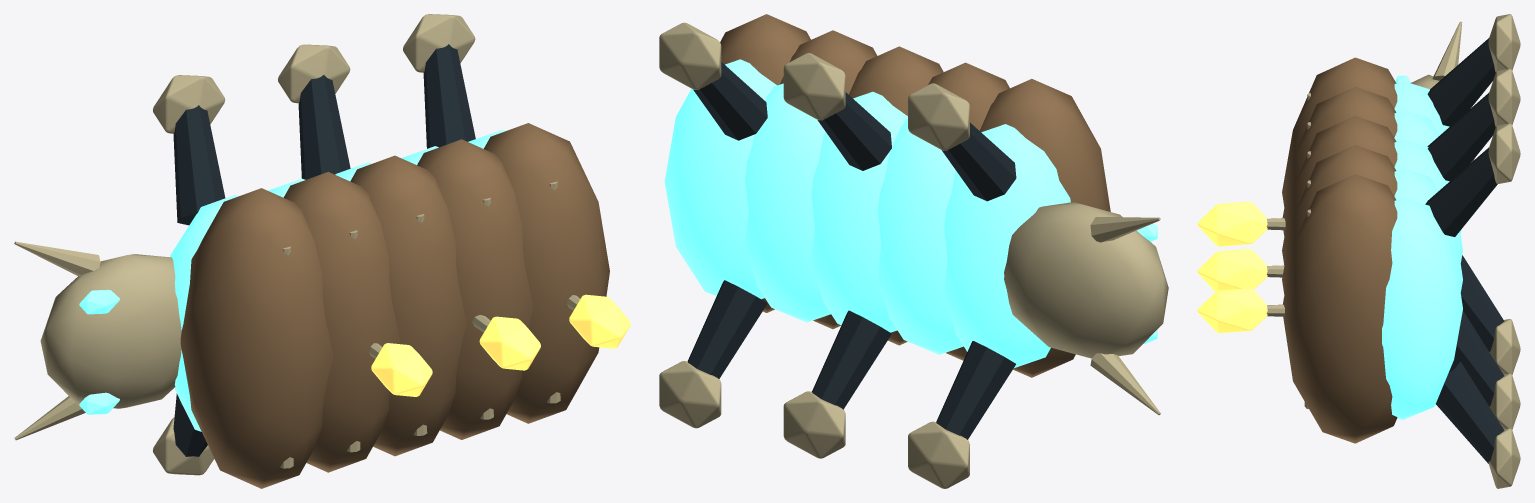
File: grazer.glb
3 renders of one model, left to right at view 1: azimuth 30°, elevation 25°; view 2: azimuth 150°, elevation 25°; view 3: azimuth 270°, elevation 25°, orthographic. The views are drawn at different scales.
Visible parts, largest first — view 1: GrazerPlate, GrazerPlate.004, GrazerPlate.001, GrazerPlate.002, GrazerPlate.003, GrazerHead, GrazerLeg.003, GrazerLeg.004, GrazerLeg.005, GrazerCore, GrazerFoot.003, GrazerFoot.004 (+10 smaller); view 2: GrazerHead, GrazerCore, GrazerCore.003, GrazerCore.004, GrazerCore.001, GrazerCore.002, GrazerPlate, GrazerLeg, GrazerLeg.001, GrazerLeg.002, GrazerPlate.004, GrazerPlate.002 (+13 smaller); view 3: GrazerPlate.004, GrazerCore.004, GrazerPlate.003, GrazerPlate.002, GrazerPlate, GrazerPlate.001, GrazerLeg.002, GrazerLeg.005, GrazerLeg.003, GrazerLeg.004, SeedLantern.002, SeedLantern (+14 smaller).
Part boxes in pixels (box(x1,y1,x2,y2)): GrazerPlate: box(180, 188, 333, 488); GrazerPlate.004: box(484, 123, 609, 423); GrazerPlate.001: box(283, 172, 399, 472); GrazerPlate.002: box(350, 155, 466, 456); GrazerPlate.003: box(417, 139, 533, 439); GrazerHead: box(40, 254, 181, 408); GrazerLeg.003: box(173, 105, 225, 225); GrazerLeg.004: box(298, 75, 350, 179); GrazerLeg.005: box(423, 44, 475, 148); GrazerCore: box(170, 195, 238, 431); GrazerFoot.003: box(153, 75, 225, 133); GrazerFoot.004: box(278, 44, 350, 103); GrazerHead: box(1004, 202, 1168, 358); GrazerCore: box(944, 124, 1070, 367); GrazerCore.003: box(745, 83, 830, 322); GrazerCore.004: box(664, 59, 776, 299); GrazerCore.001: box(878, 118, 963, 354); GrazerCore.002: box(811, 91, 907, 332); GrazerPlate: box(980, 79, 1110, 377); GrazerLeg: box(936, 341, 1015, 439); GrazerLeg.001: box(812, 310, 891, 409); GrazerLeg.002: box(687, 280, 767, 378); GrazerPlate.004: box(720, 14, 810, 312); GrazerPlate.002: box(849, 46, 943, 345); GrazerPlate.004: box(1283, 174, 1397, 443); GrazerCore.004: box(1382, 197, 1462, 420); GrazerPlate.003: box(1282, 145, 1397, 294); GrazerPlate.002: box(1282, 115, 1397, 264); GrazerPlate: box(1282, 57, 1397, 206); GrazerPlate.001: box(1282, 86, 1397, 235); GrazerLeg.002: box(1436, 361, 1504, 463); GrazerLeg.005: box(1425, 147, 1497, 236); GrazerLeg.003: box(1427, 38, 1495, 126); GrazerLeg.004: box(1427, 93, 1495, 181); SeedLantern.002: box(1197, 288, 1267, 332); SeedLantern: box(1197, 201, 1267, 246).
Bounding box in the file's own units: 2.51 × 1.83 × 1.5.
